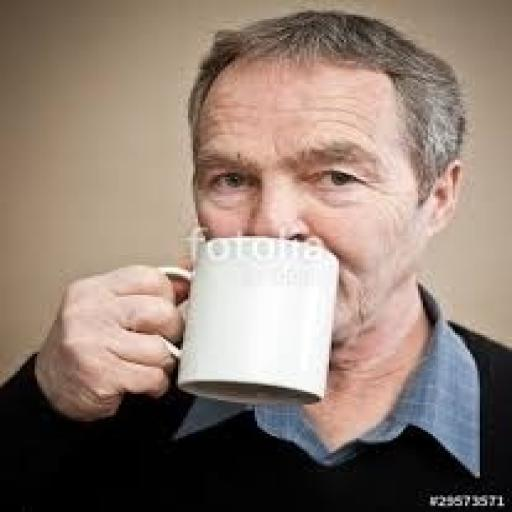drinking: (158, 228, 339, 406)
